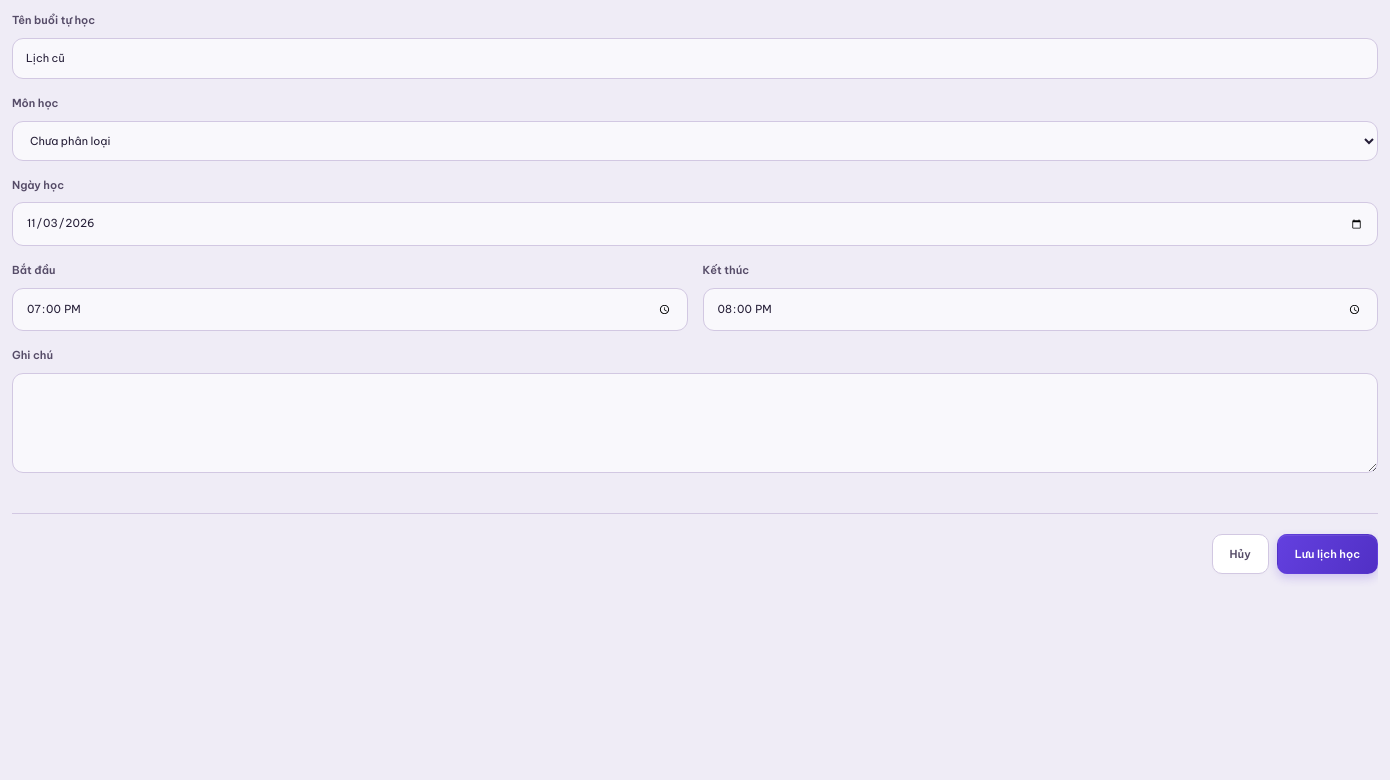
Test: Schedule editor request contracts › allows notes on a historical schedule while blocking rescheduling it into the past
Type "Đã học xong" into the text box labelled "Ghi chú" at [695, 423], box [12,373,1378,473]
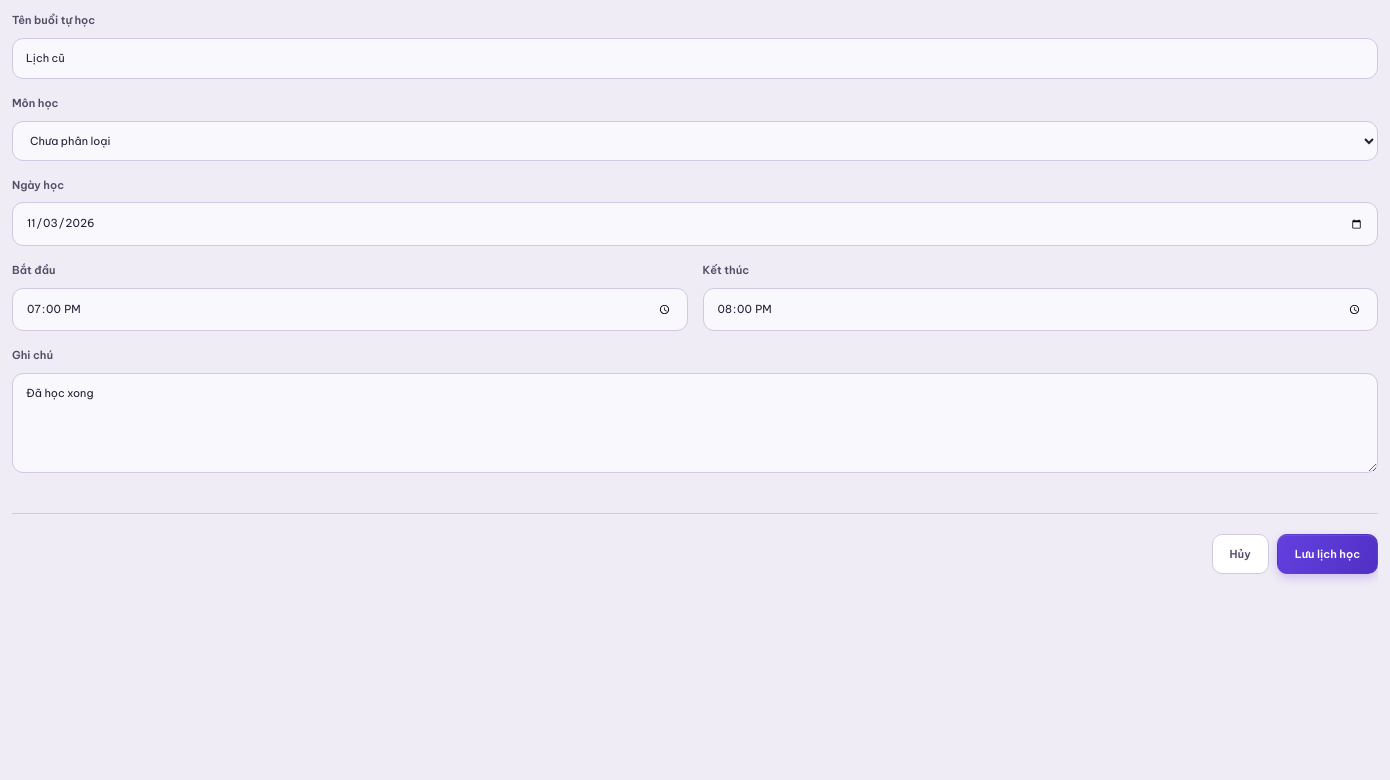
Submit the form "Lưu lịch học"
Type "2026-11-02" into the date field labelled "Ngày học" at [695, 224], box [12,202,1378,246]
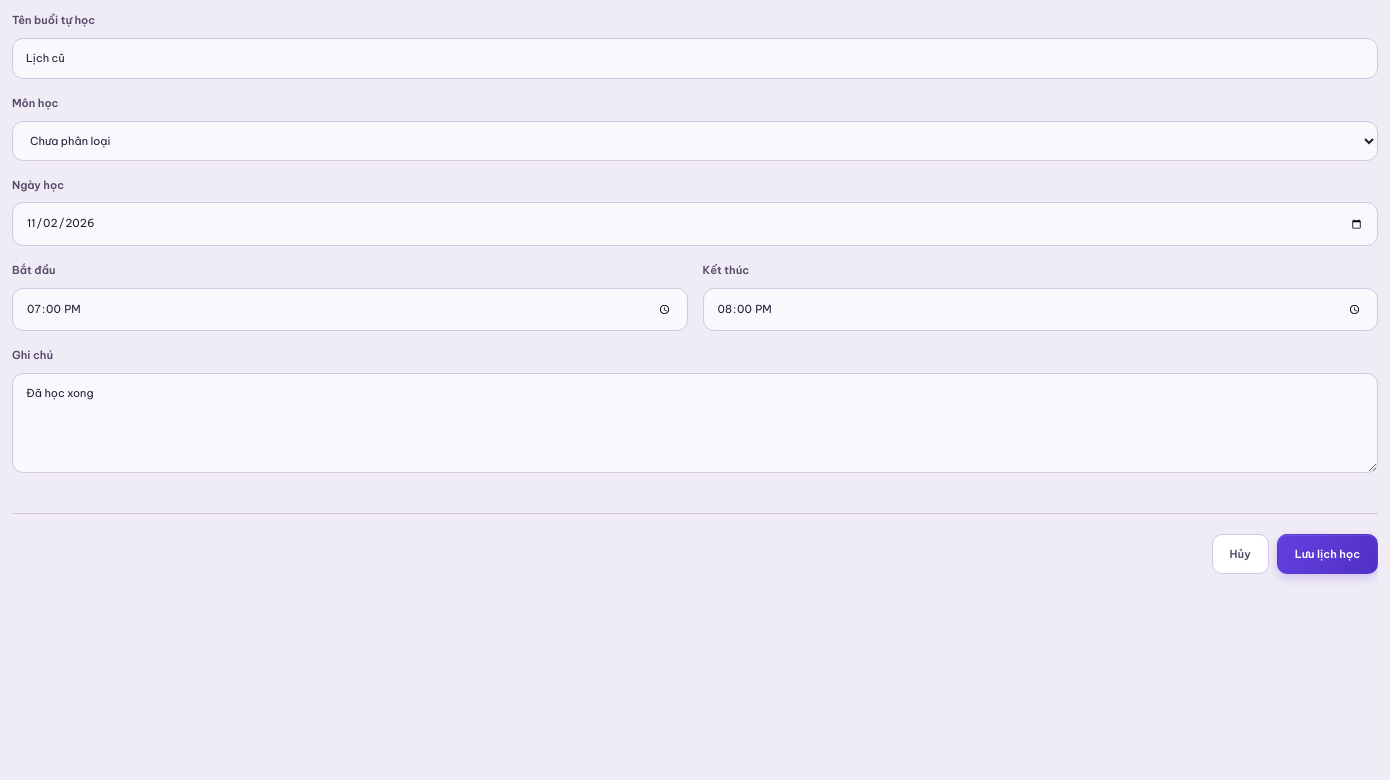
Submit the form "Lưu lịch học"
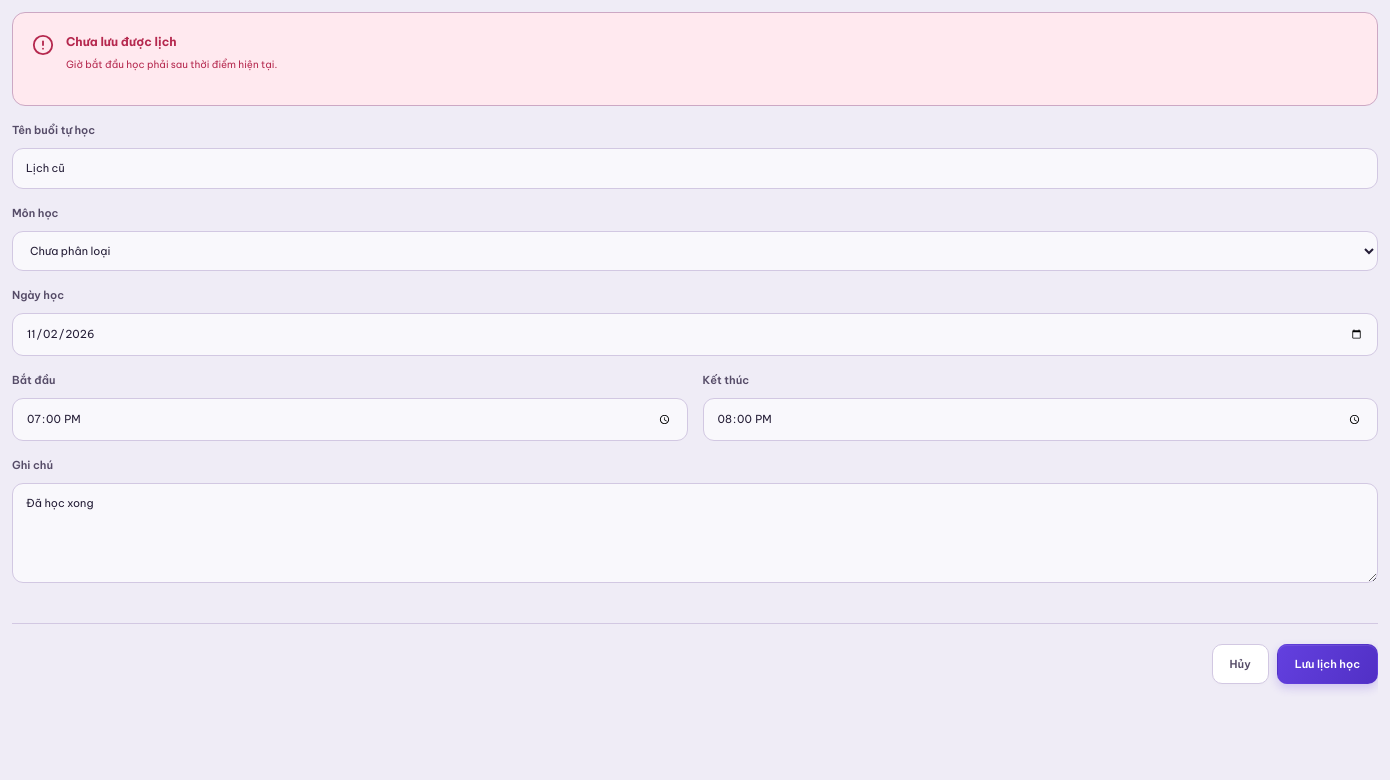
Expected: the message "Chưa lưu được lịch Giờ bắt đầu học phải sau thời điểm hiện tại." is shown, [12,12,1378,106]
